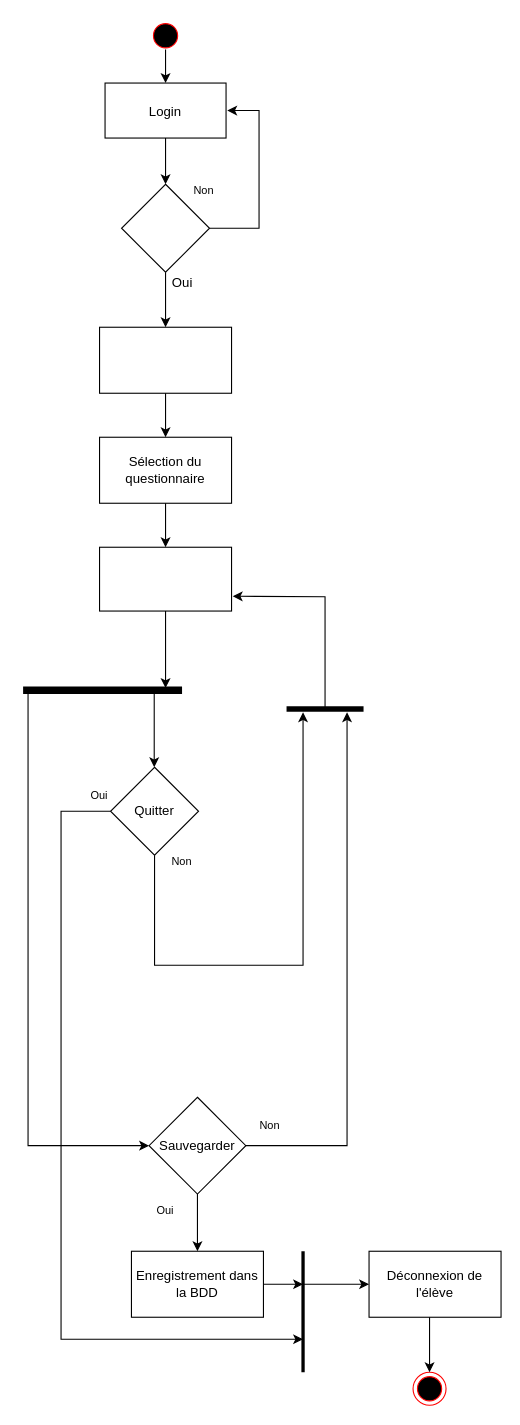
Image size: 520x1425. Some labels were removed from this diagram. Each missing label, with the box of its shape:
Affichage des questionnaires disponible: (98, 326, 232, 393)
Login valid: (120, 183, 210, 272)
Remplir questionnaire: (98, 546, 232, 611)
